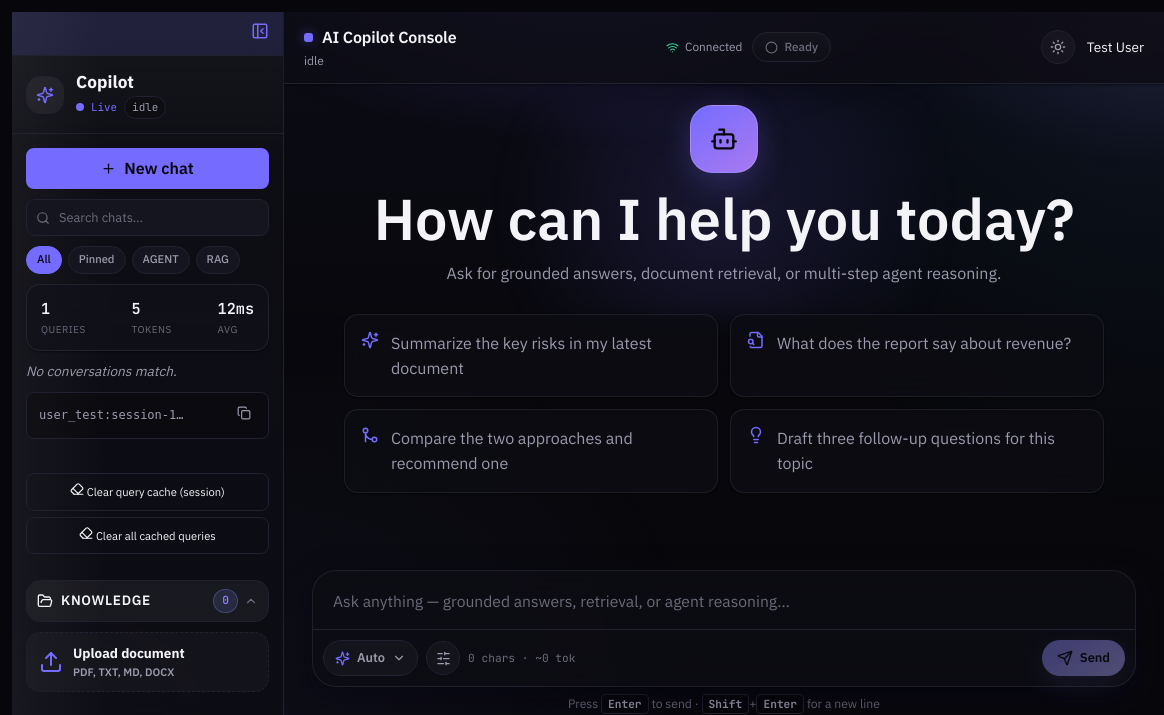
it: streams tokens before final response
(page scrolled)
Expected: the text titled "user_test:session-1" is shown, [39,406,184,425]
Replace the text in the text box named "Query" with "stream please" at [724, 600], box [313,571,1135,629]
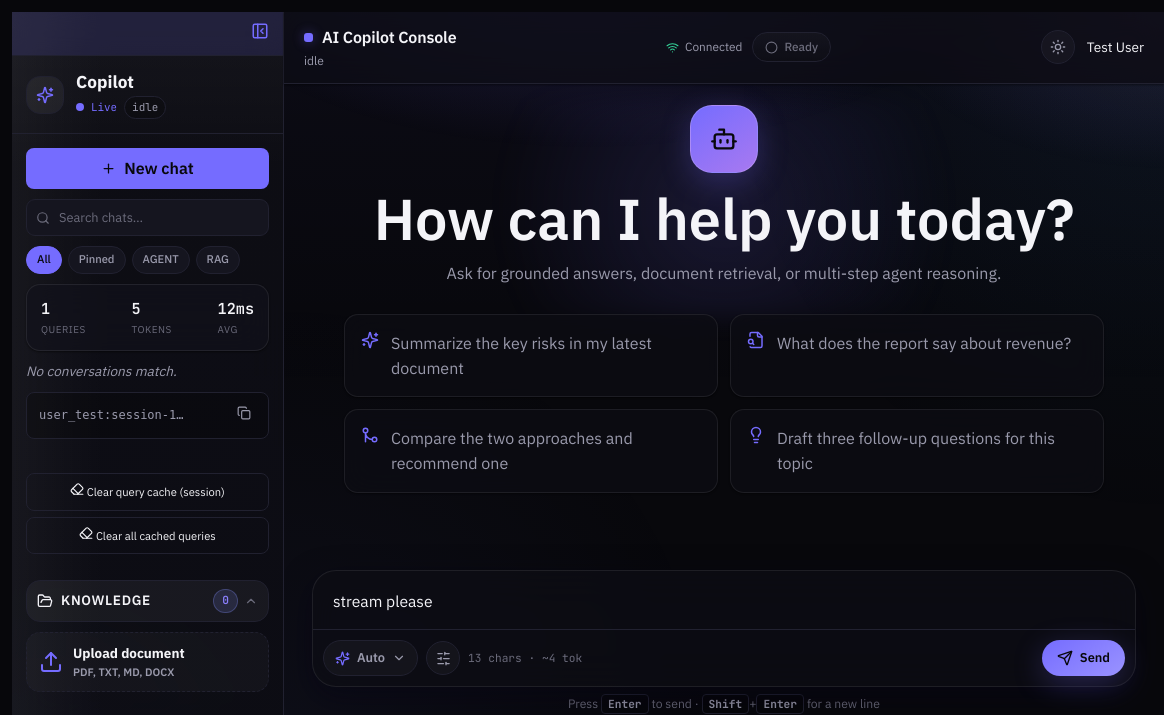
Click the button "Send".
click(1083, 658)  # box [1042,640,1125,676]
(page scrolled)
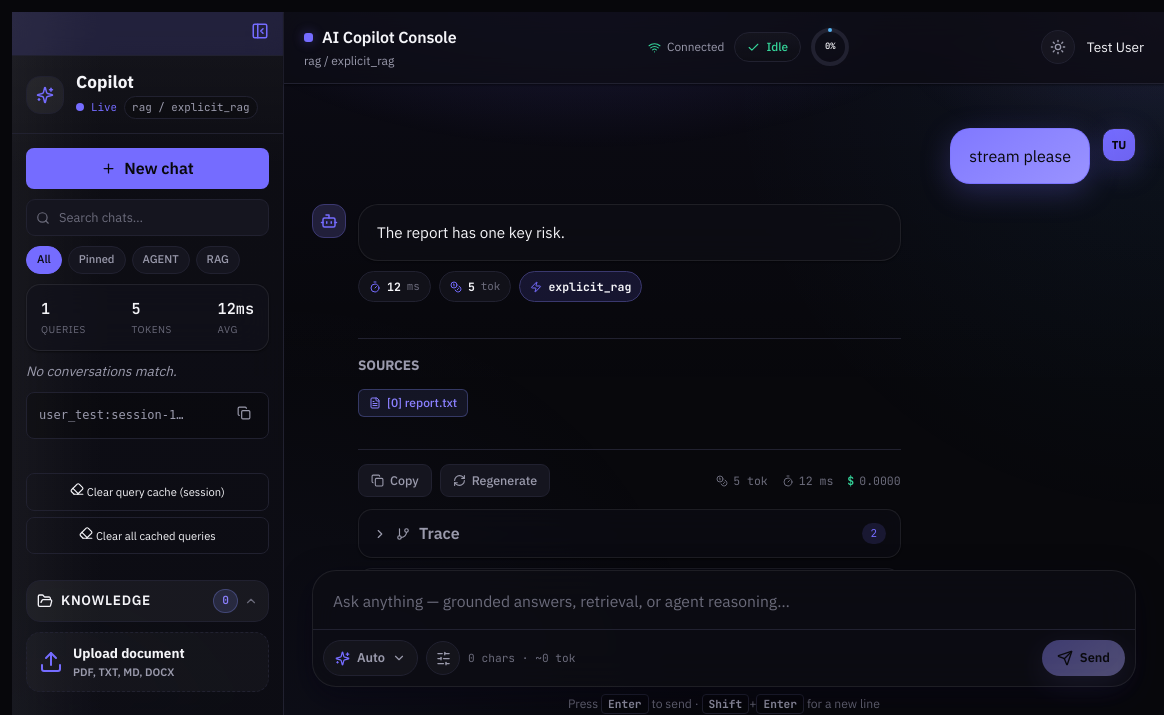
Result: the text "The report has one key risk." is shown at [377,222,565,242]
